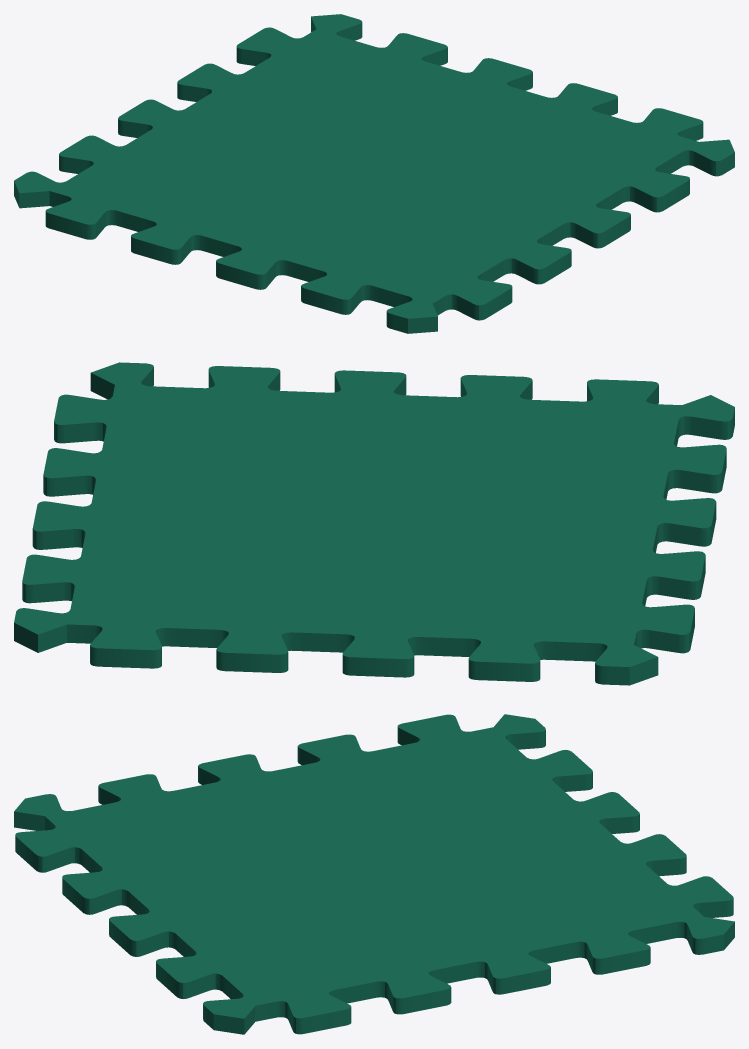
File: puzzle FBX.fbx
3 renders of one model, top to bottom at view 1: azimuth 30°, elevation 25°; view 2: azimuth 150°, elevation 25°; view 3: azimuth 270°, elevation 25°, orthographic. The views are drawn at different scales.
Parts seen in each view (by area): view 1: puzzle 2; view 2: puzzle 2; view 3: puzzle 2.
Part boxes in pixels (x1,y1,x2,y2): puzzle 2: (14,14,734,333); puzzle 2: (14,362,734,685); puzzle 2: (14,714,734,1034).
Bounding box in the file's own units: 40.43 × 0.99 × 40.43.
